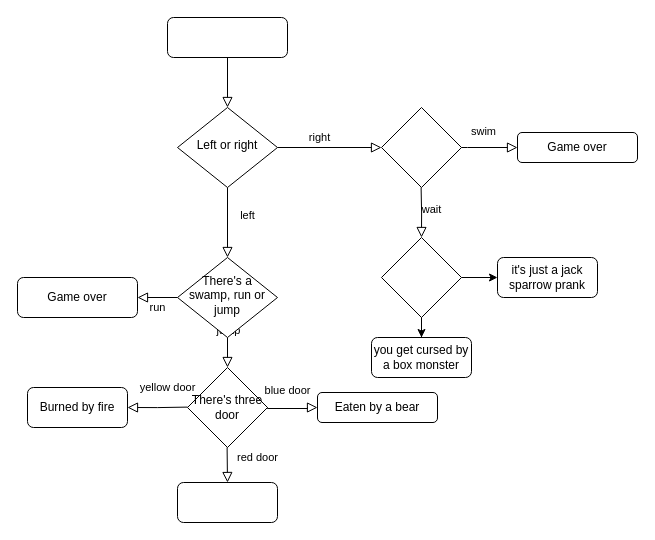
This 655x540 diagram has some shape labels left out. The shapes that lost their labels are listed below. From the top down, each one's centre as x and y in pixels, then its label:
(x=227, y=37): Welcome to treasure island
(x=421, y=147): wait or swim
(x=421, y=277): choose one treasure
(x=227, y=502): You win
